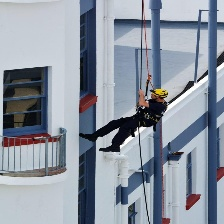helmet: (150, 87, 168, 101)
person: (81, 86, 169, 154)
